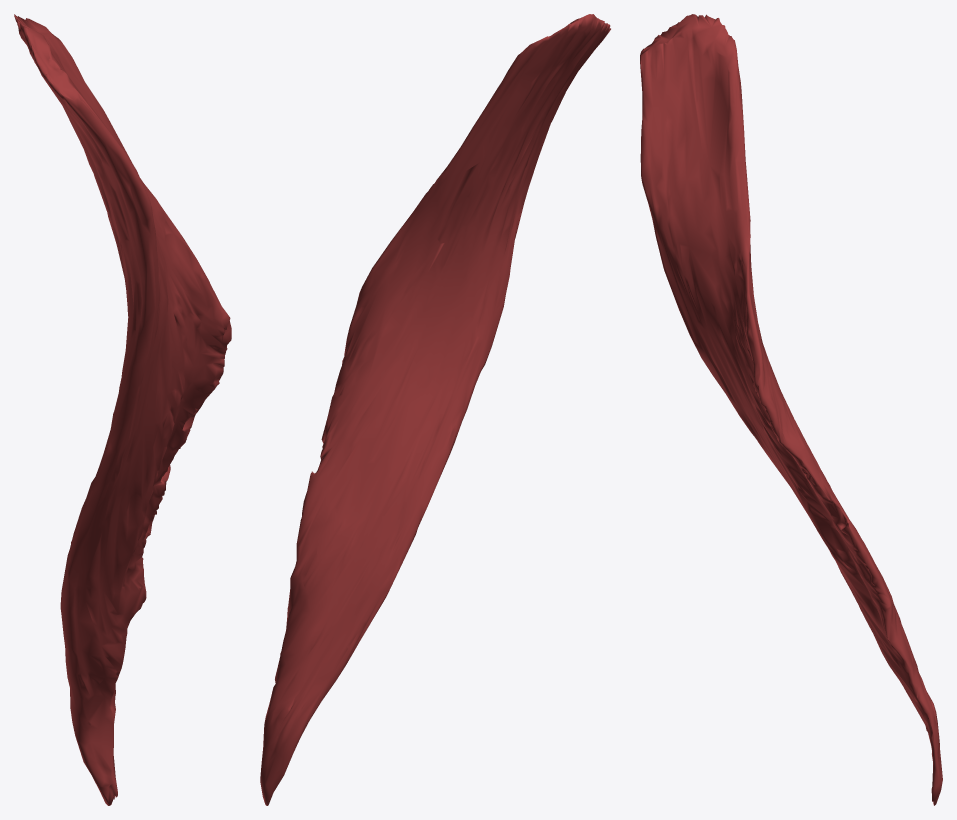
The model's file is splenius-capitis-muscle-r.glb.
3 renders of one model, left to right at view 1: azimuth 30°, elevation 25°; view 2: azimuth 150°, elevation 25°; view 3: azimuth 270°, elevation 25°, orthographic. The views are drawn at different scales.
Parts seen in each view (by area): view 1: Splenius capitis muscle.r; view 2: Splenius capitis muscle.r; view 3: Splenius capitis muscle.r.
Boxes of the visible parts, box(x1,y1,x2,y2) form: Splenius capitis muscle.r: box(14, 14, 231, 805); Splenius capitis muscle.r: box(260, 14, 610, 805); Splenius capitis muscle.r: box(640, 14, 942, 805).
Bounding box in the file's own units: 0.0613 × 0.2156 × 0.0843.
